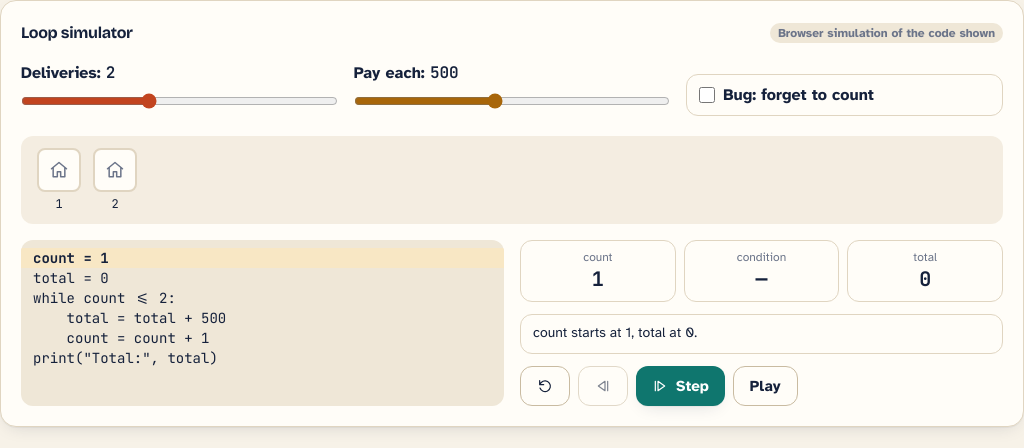
it: LoopSimulator › steps through iterations with keyboard-accessible buttons
Click the button "Step": (680, 386) [636, 366, 725, 406]
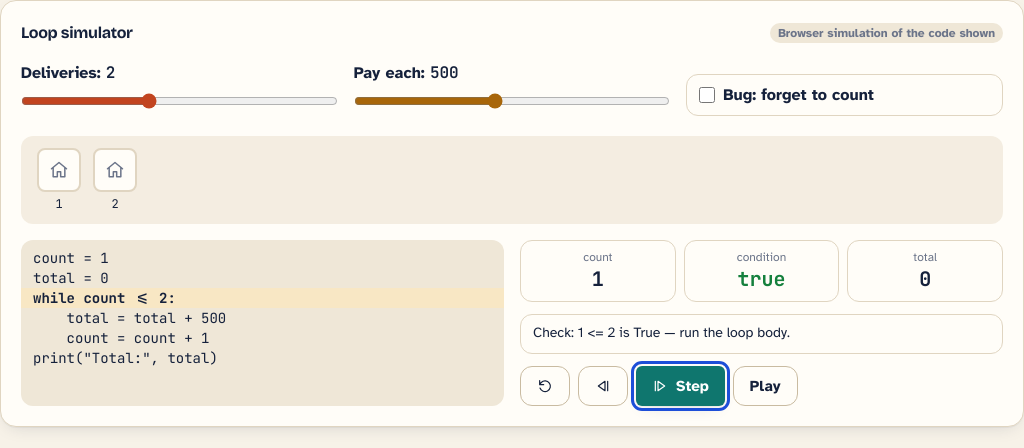
Click the button "Step": (680, 386) [636, 366, 725, 406]
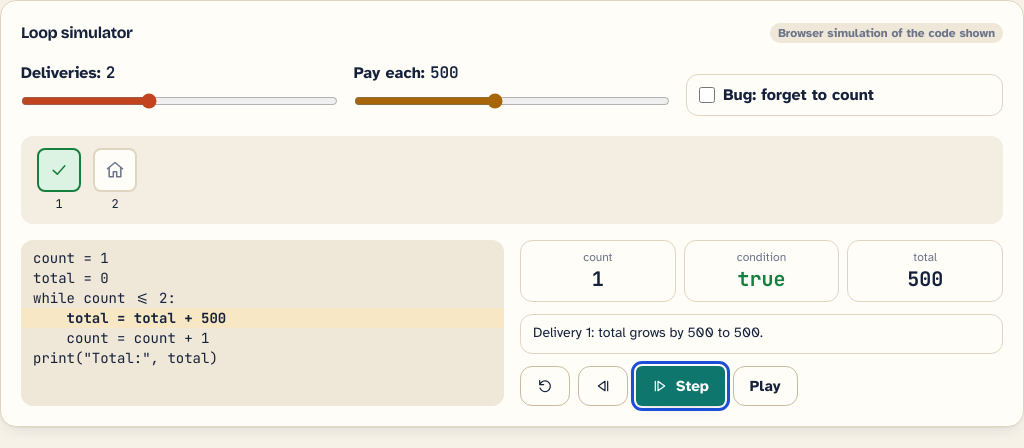
Expected: the text "Delivery 1: total grows by 500 to 500." is shown, [520, 314, 1003, 354]
